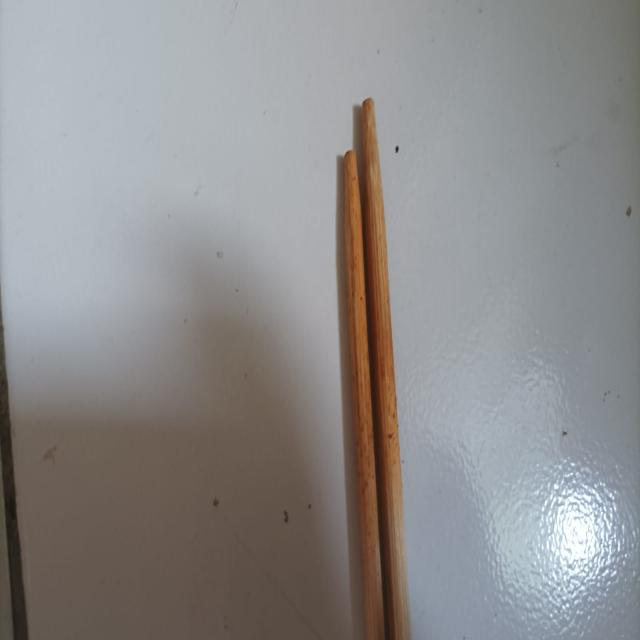Organik: (343, 99, 411, 640)
